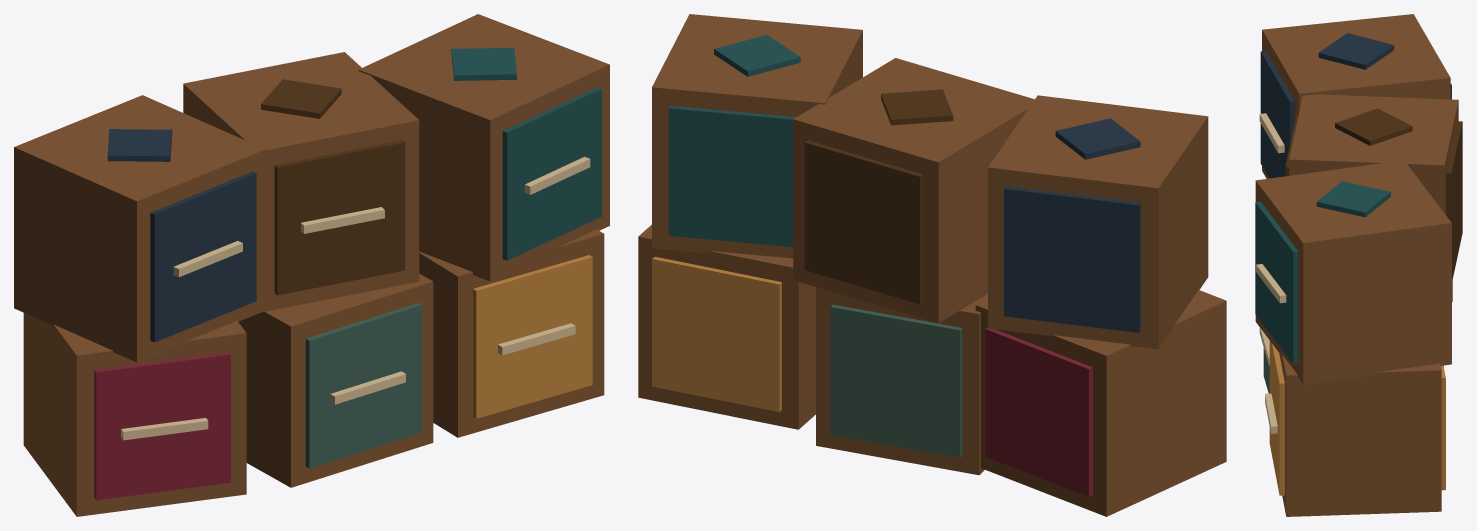
File: mia-toy_blocks.glb
The picture shows the model from 3 angles, left to right: view 1: azimuth 30°, elevation 25°; view 2: azimuth 150°, elevation 25°; view 3: azimuth 270°, elevation 25°; orthographic projection. The views are drawn at different scales.
Visible parts, largest first — view 1: Body_oak, Body_wood, Body_velvet, Body_navy-seat, Body_brass, Body_sage, Body_teal, Body_ivory; view 2: Body_oak, Body_navy-seat, Body_teal, Body_wood, Body_sage, Body_brass, Body_velvet; view 3: Body_oak, Body_teal, Body_navy-seat, Body_wood, Body_brass, Body_ivory.
Part boxes in pixels (box(x1,y1,x2,y2)): Body_oak: box(14, 14, 609, 516); Body_wood: box(261, 79, 405, 295); Body_velvet: box(94, 352, 230, 500); Body_navy-seat: box(107, 129, 256, 342); Body_brass: box(473, 255, 592, 418); Body_sage: box(305, 303, 422, 468); Body_teal: box(451, 47, 601, 260); Body_ivory: box(121, 156, 590, 440); Body_oak: box(638, 14, 1226, 516); Body_navy-seat: box(1004, 118, 1140, 332); Body_teal: box(668, 35, 800, 247); Body_wood: box(804, 89, 953, 304); Body_sage: box(830, 304, 962, 457); Body_brass: box(652, 256, 781, 411); Body_velvet: box(985, 328, 1092, 496); Body_oak: box(1255, 14, 1458, 516); Body_teal: box(1255, 181, 1390, 363); Body_navy-seat: box(1260, 33, 1451, 178); Body_wood: box(1285, 108, 1462, 281); Body_brass: box(1269, 340, 1445, 495); Body_ivory: box(1256, 113, 1286, 433).
Bounding box in the file's own units: 0.4032 × 0.239 × 0.154.
